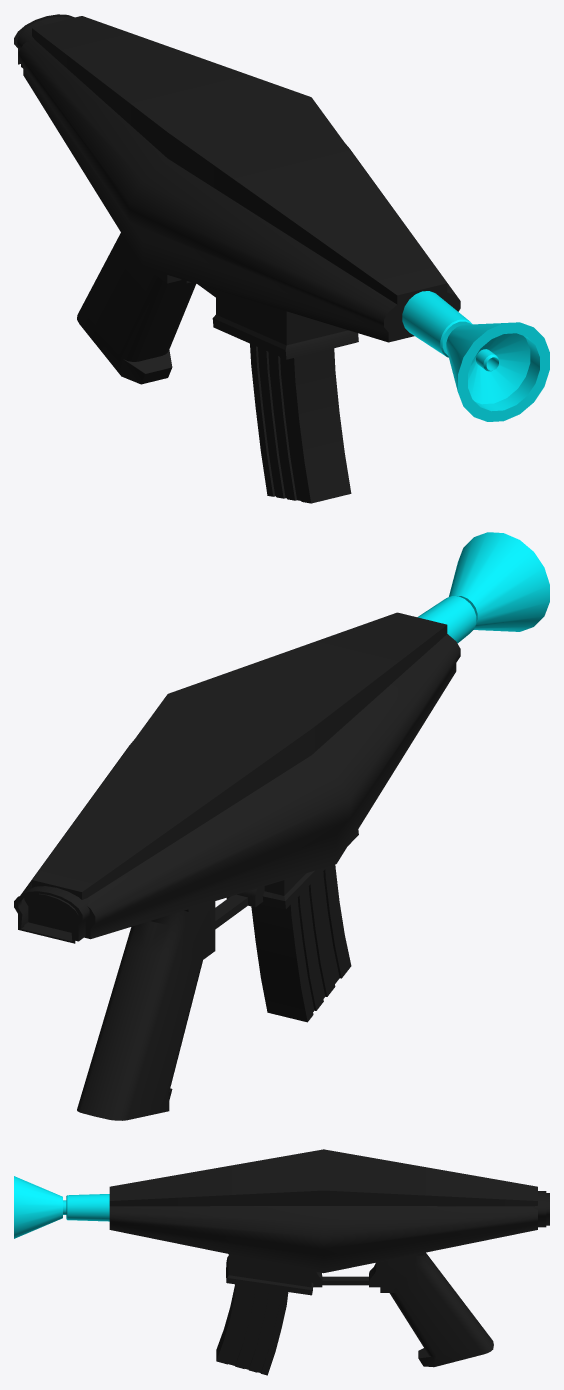
Rendered from AlienSniperRifle.fbx.
3 views of the same model, one above another, from view 1: azimuth 30°, elevation 25°; view 2: azimuth 150°, elevation 25°; view 3: azimuth 270°, elevation 25° (orthographic). The views are drawn at different scales.
Visible parts, largest first — view 1: Uzayli Silahı.002; view 2: Uzayli Silahı.002; view 3: Uzayli Silahı.002.
Part boxes in pixels (x1=…): Uzayli Silahı.002: x1=14, y1=14, x2=549, y2=503; Uzayli Silahı.002: x1=14, y1=532, x2=549, y2=1120; Uzayli Silahı.002: x1=14, y1=1149, x2=549, y2=1375.
Bounding box in the file's own units: 54.9 × 81.18 × 197.
